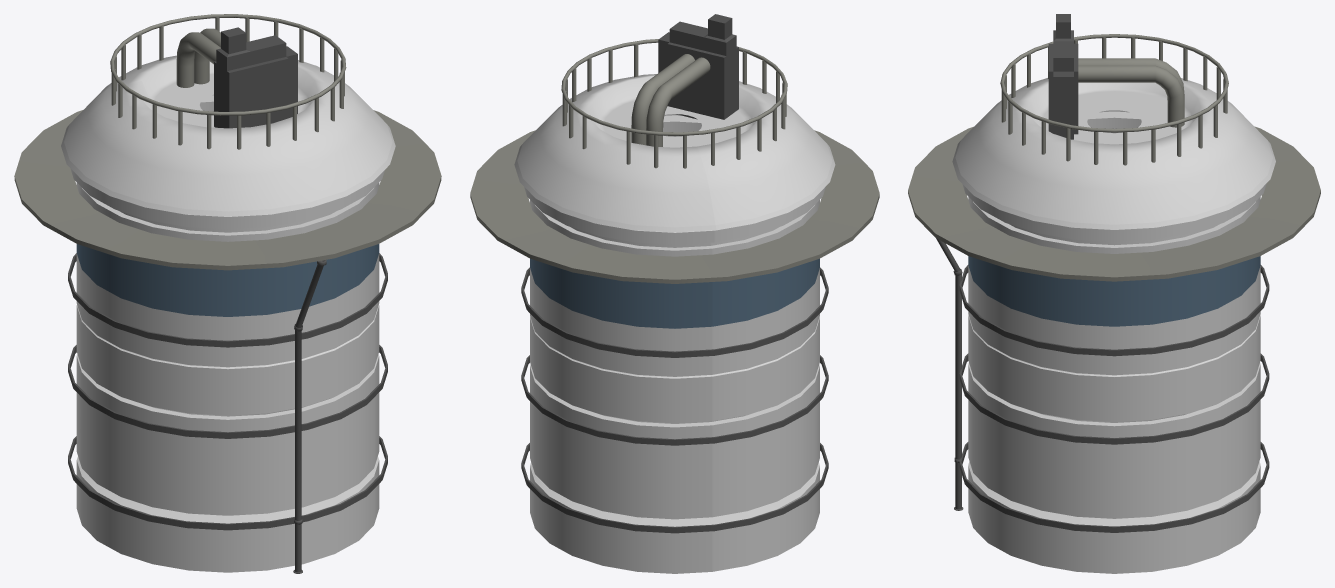
The model's file is bld_tower_industry_01.fbx.
3 renders of one model, left to right at view 1: azimuth 30°, elevation 25°; view 2: azimuth 150°, elevation 25°; view 3: azimuth 270°, elevation 25°, orthographic. The views are drawn at different scales.
Parts seen in each view (by area): view 1: bld_tower_industry_01; view 2: bld_tower_industry_01; view 3: bld_tower_industry_01.
Part boxes in pixels (x1=…): bld_tower_industry_01: x1=14, y1=14, x2=441, y2=573; bld_tower_industry_01: x1=470, y1=14, x2=879, y2=573; bld_tower_industry_01: x1=908, y1=14, x2=1320, y2=573.
Bounding box in the file's own units: 664 × 862 × 664.
